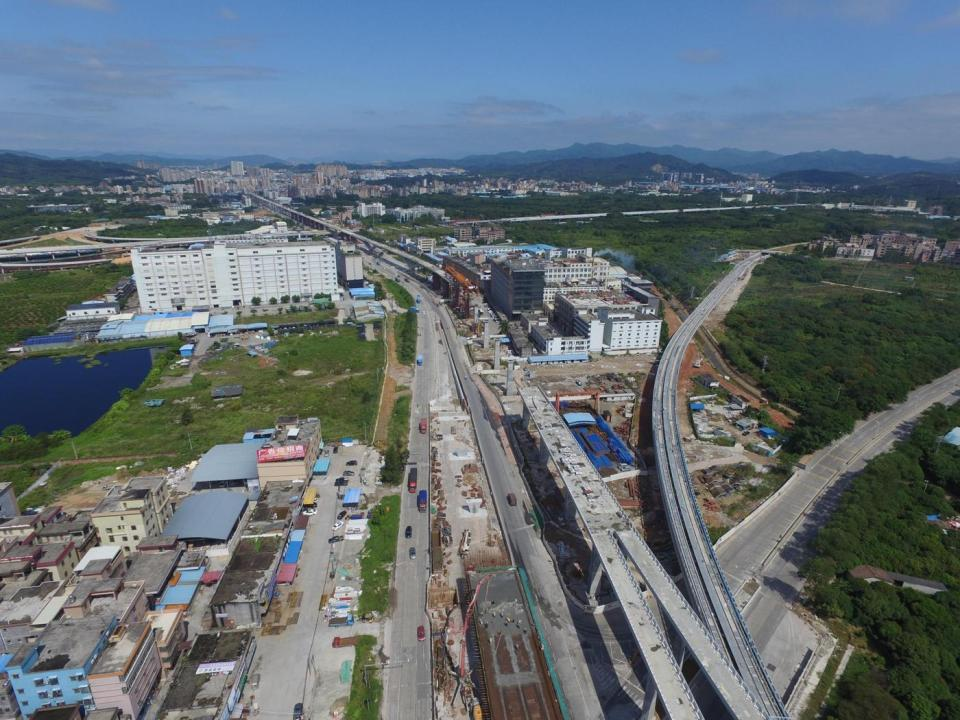car: (294, 702, 303, 719), (328, 535, 344, 542), (332, 520, 342, 531), (418, 625, 424, 642), (404, 526, 412, 538), (303, 501, 316, 508), (410, 547, 416, 560), (306, 498, 318, 504), (343, 470, 354, 476), (304, 510, 319, 514), (346, 461, 358, 466), (337, 512, 345, 519), (742, 430, 749, 436), (333, 446, 338, 454), (324, 450, 329, 458)
truck: (331, 636, 358, 648), (329, 615, 353, 628), (408, 468, 416, 492), (418, 490, 426, 512), (508, 493, 517, 506), (420, 417, 426, 433), (334, 481, 348, 486), (335, 477, 349, 482), (417, 355, 422, 366), (410, 307, 419, 312), (404, 277, 410, 282), (417, 294, 420, 303)
van: (252, 672, 260, 690), (620, 466, 631, 472), (618, 463, 627, 468)
